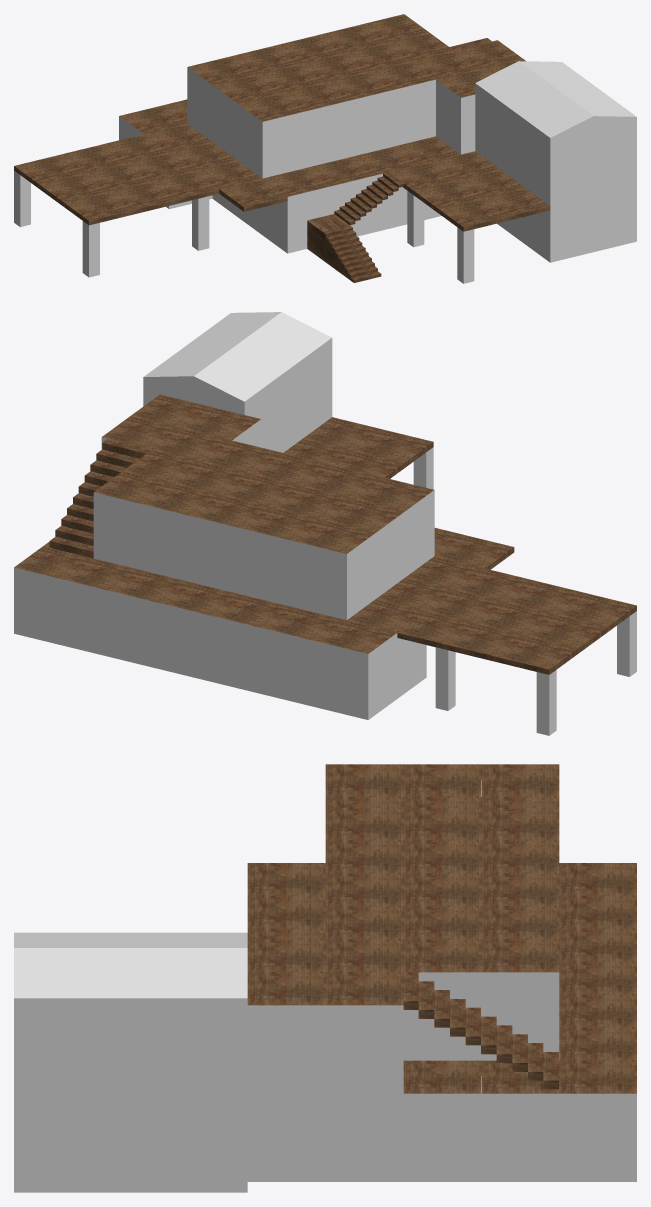
File: HeadQuarters.fbx
3 views of the same model, one above another, from view 1: azimuth 30°, elevation 25°; view 2: azimuth 150°, elevation 25°; view 3: azimuth 270°, elevation 25° (orthographic). The views are drawn at different scales.
Visible parts, largest first — view 1: Plane.019, Plane.121, Plane.100, Plane.010, Plane.022, Plane.028, Plane.029, Plane.061, Plane.087, Plane.048, Plane.020, Plane.063 (+42 smaller); view 2: Plane.010, Plane.019, Plane.100, Plane.121, Plane.103, Plane.055, Plane.016, Plane.064, Plane.087, Plane.057, Plane.061, Plane.048 (+39 smaller); view 3: Plane.010, Plane.019, Plane.022, Plane.121, Plane.100, Plane.103, Plane.032, Plane.061, Plane.068, Plane.070, Plane.071, Plane.073 (+30 smaller).
Boxes of the visible parts, bbox=[...] form: Plane.019: bbox=[187, 67, 475, 178]; Plane.121: bbox=[475, 95, 636, 205]; Plane.100: bbox=[475, 61, 636, 149]; Plane.010: bbox=[119, 116, 441, 253]; Plane.022: bbox=[497, 185, 636, 262]; Plane.028: bbox=[323, 225, 381, 282]; Plane.029: bbox=[334, 172, 403, 225]; Plane.061: bbox=[64, 192, 132, 225]; Plane.087: bbox=[438, 198, 506, 231]; Plane.048: bbox=[219, 178, 287, 211]; Plane.020: bbox=[307, 214, 353, 282]; Plane.063: bbox=[108, 181, 175, 214]; Plane.010: bbox=[14, 567, 426, 719]; Plane.019: bbox=[93, 419, 434, 620]; Plane.100: bbox=[143, 312, 332, 414]; Plane.121: bbox=[143, 351, 332, 452]; Plane.103: bbox=[49, 439, 151, 558]; Plane.055: bbox=[498, 636, 578, 674]; Plane.016: bbox=[397, 611, 476, 650]; Plane.064: bbox=[448, 623, 527, 662]; Plane.087: bbox=[354, 429, 433, 467]; Plane.057: bbox=[528, 614, 607, 652]; Plane.061: bbox=[557, 593, 636, 631]; Plane.048: bbox=[435, 535, 514, 569]; Plane.010: bbox=[247, 1093, 636, 1181]; Plane.019: bbox=[247, 972, 559, 1093]; Plane.022: bbox=[14, 1104, 247, 1192]; Plane.121: bbox=[14, 1016, 247, 1104]; Plane.100: bbox=[14, 932, 247, 1015]; Plane.103: bbox=[403, 972, 558, 1089]; Plane.032: bbox=[403, 1060, 481, 1093]; Plane.061: bbox=[325, 764, 403, 797]; Plane.068: bbox=[325, 873, 403, 906]; Plane.070: bbox=[325, 939, 403, 972]; Plane.071: bbox=[481, 873, 559, 906]; Plane.073: bbox=[481, 939, 559, 972].
Size of the model in its own units: 41.32 by 12 by 31.98.
